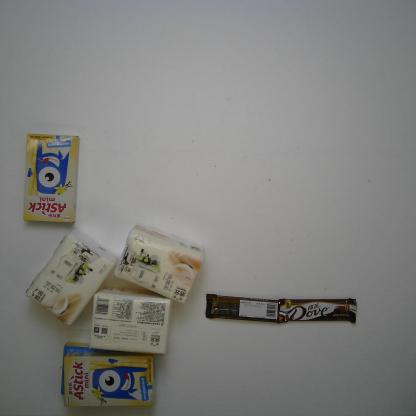Chocolate: (204, 293, 283, 324), (280, 297, 357, 325)
Dessert: (59, 340, 154, 400), (22, 131, 80, 225), (62, 352, 155, 408)
Tissue: (24, 226, 120, 327), (111, 223, 206, 304), (89, 286, 173, 358)
